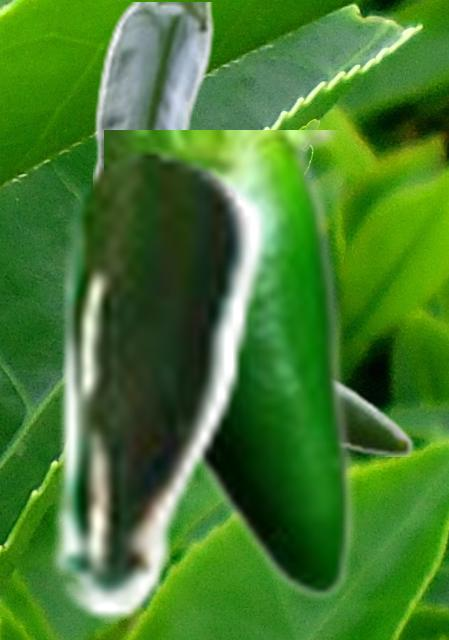green_chili: (93, 2, 414, 455), (104, 130, 355, 601), (40, 144, 269, 622)
